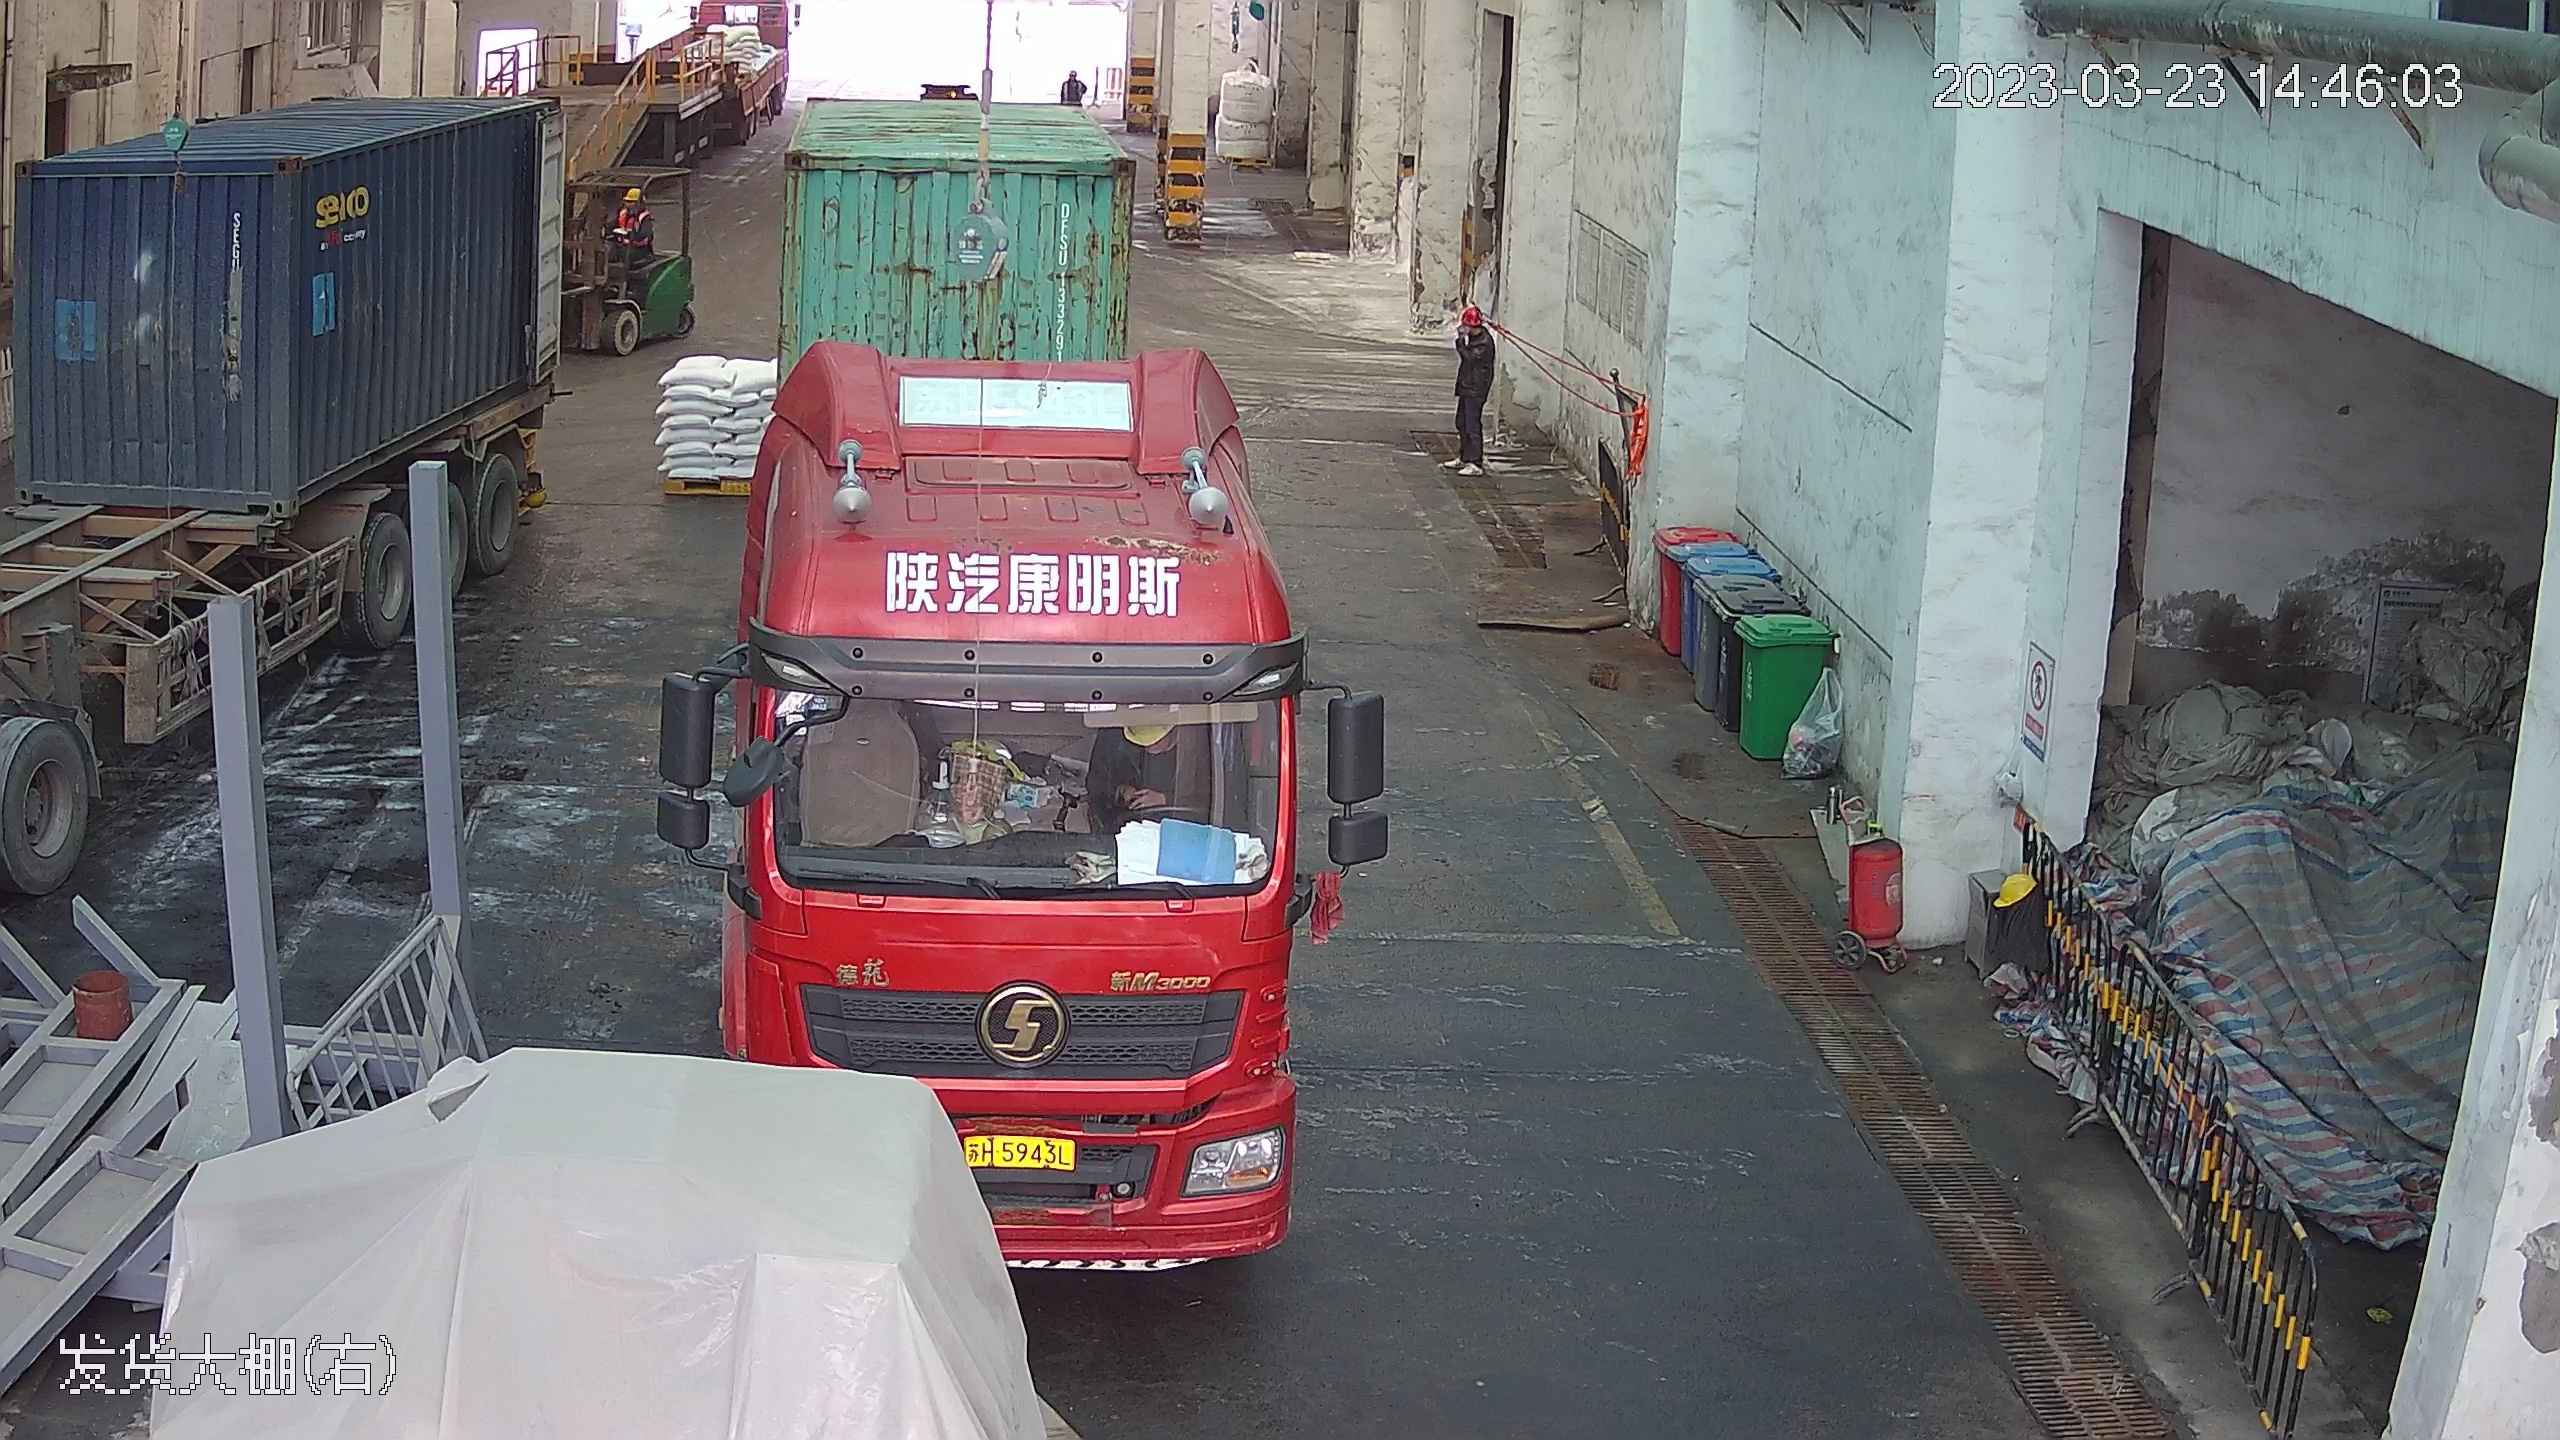head: (1452, 294, 1496, 352), (612, 184, 651, 227), (1061, 68, 1084, 95)
helmet: (1458, 295, 1483, 321), (624, 181, 645, 199)
people: (1449, 293, 1499, 475)
truck: (704, 36, 1334, 1240), (3, 17, 582, 1170)
